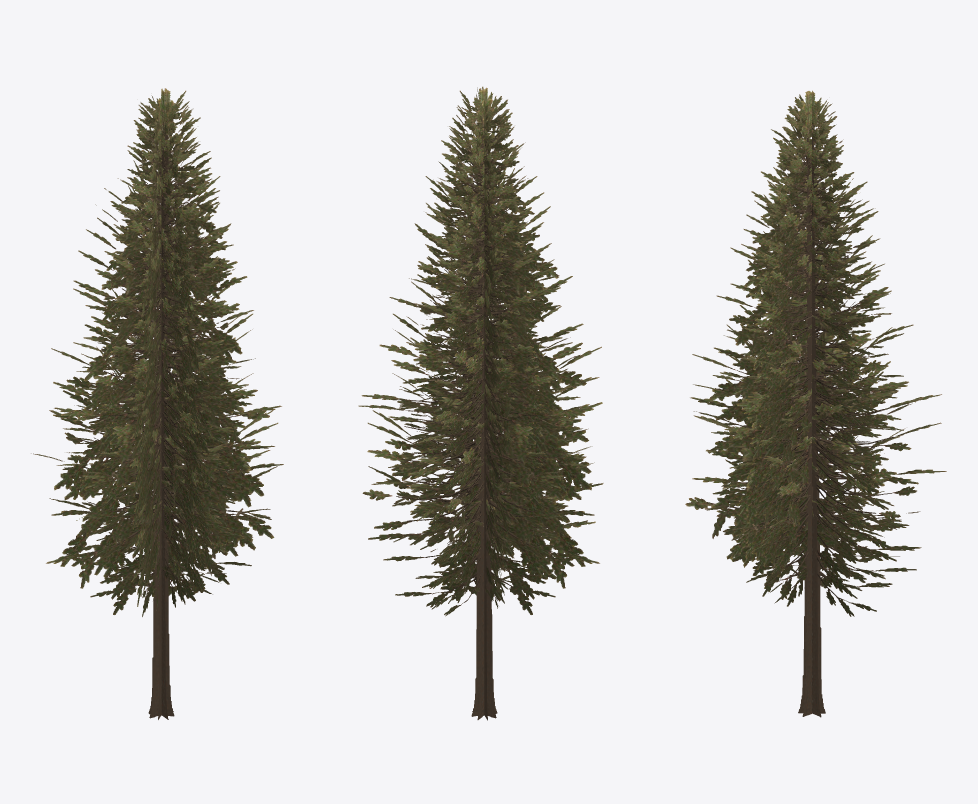
Rendered from fir_medium_b_lod6_cross.gltf.
3 renders of one model, left to right at view 1: azimuth 30°, elevation 25°; view 2: azimuth 150°, elevation 25°; view 3: azimuth 270°, elevation 25°, orthographic.
Visible parts, largest first — view 1: fir_medium_b_LOD6; view 2: fir_medium_b_LOD6; view 3: fir_medium_b_LOD6.
Boxes of the visible parts, x1,y1,x2,y2 form: fir_medium_b_LOD6: (31, 88, 283, 719); fir_medium_b_LOD6: (358, 86, 603, 720); fir_medium_b_LOD6: (685, 90, 946, 717).
Size of the model in its own units: 10.37 by 24.46 by 10.37.
Materials: 1 (1 with a texture image).
